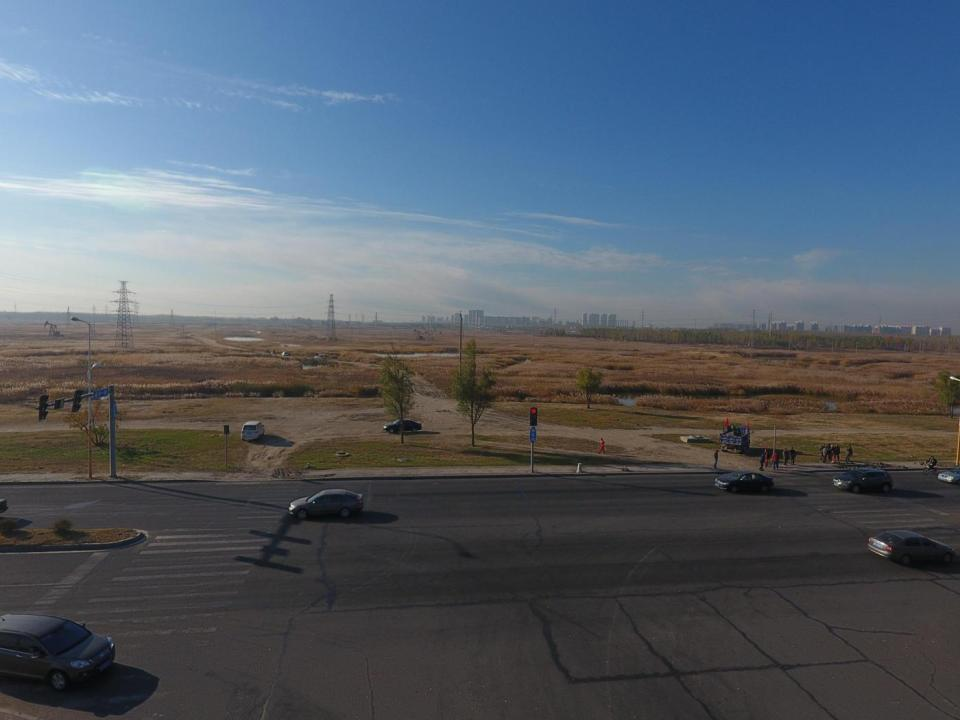car: (0, 611, 115, 689), (867, 529, 956, 565), (288, 489, 363, 522), (832, 467, 893, 494), (714, 470, 774, 492), (384, 418, 422, 433), (315, 356, 326, 360), (281, 351, 288, 356)
truck: (719, 426, 751, 453)
van: (240, 420, 265, 440)
